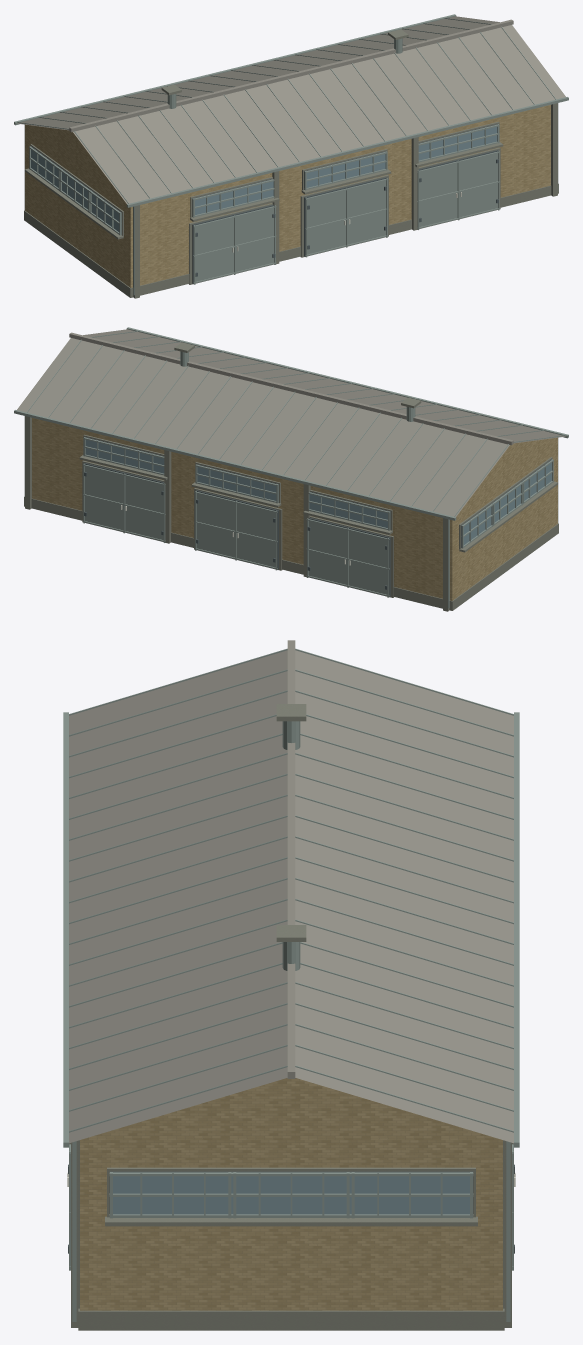
File: fuel_warehouse.glb
3 views of the same model, one above another, from view 1: azimuth 30°, elevation 25°; view 2: azimuth 150°, elevation 25°; view 3: azimuth 270°, elevation 25° (orthographic). The views are drawn at different scales.
Parts seen in each view (by area): view 1: fuel_warehouse; view 2: fuel_warehouse; view 3: fuel_warehouse.
Boxes of the visible parts, x1,y1,x2,y2 form: fuel_warehouse: [14, 14, 568, 298]; fuel_warehouse: [14, 327, 568, 611]; fuel_warehouse: [63, 640, 519, 1330].
Size of the model in its own units: 29 by 9.28 by 12.96.
Materials: 7 (2 with a texture image).
